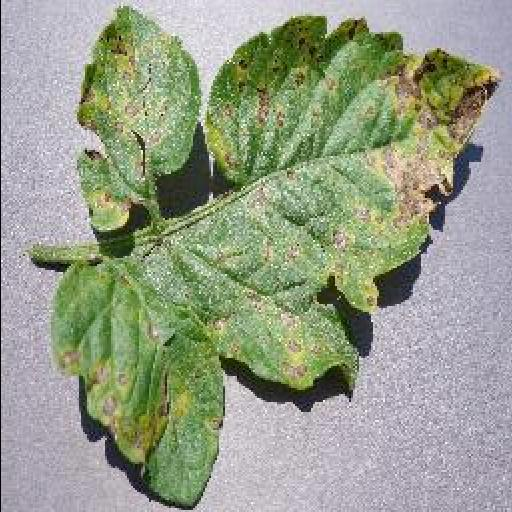disease_tomato: (53, 8, 499, 508)
